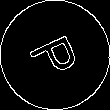P_NE: (24, 27, 86, 82)
